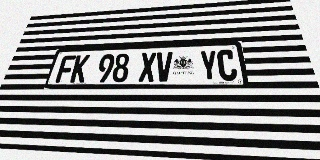8: (111, 53, 130, 82)
9: (96, 54, 115, 82)
C: (217, 49, 238, 81)
F: (55, 55, 76, 83)
K: (69, 55, 90, 83)
V: (155, 52, 173, 82)
X: (138, 52, 156, 82)
Y: (199, 50, 219, 81)
